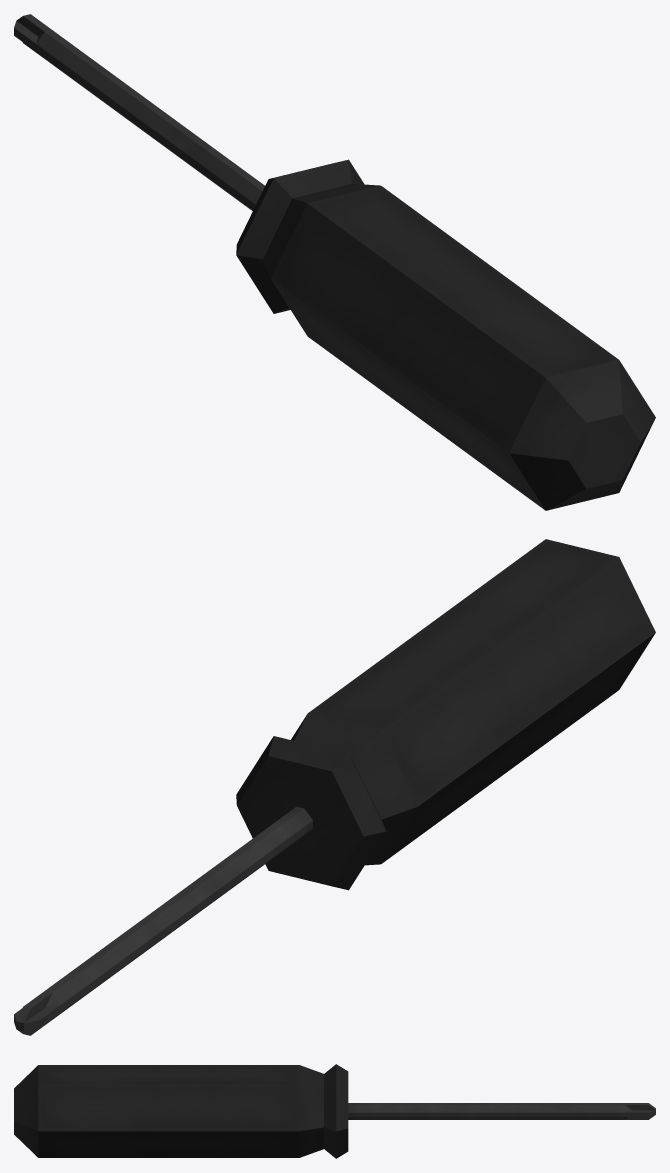
The model's file is screwdriver_mp_2_1.obj.
3 views of the same model, one above another, from view 1: azimuth 30°, elevation 25°; view 2: azimuth 150°, elevation 25°; view 3: azimuth 270°, elevation 25° (orthographic). The views are drawn at different scales.
Parts seen in each view (by area): view 1: screwdriver_mp_2_1; view 2: screwdriver_mp_2_1; view 3: screwdriver_mp_2_1.
Boxes of the visible parts, x1,y1,x2,y2 form: screwdriver_mp_2_1: (14,14,655,510); screwdriver_mp_2_1: (14,539,655,1035); screwdriver_mp_2_1: (14,1064,655,1158).
Bounding box in the file's own units: 0.0393 × 0.034 × 0.265.
